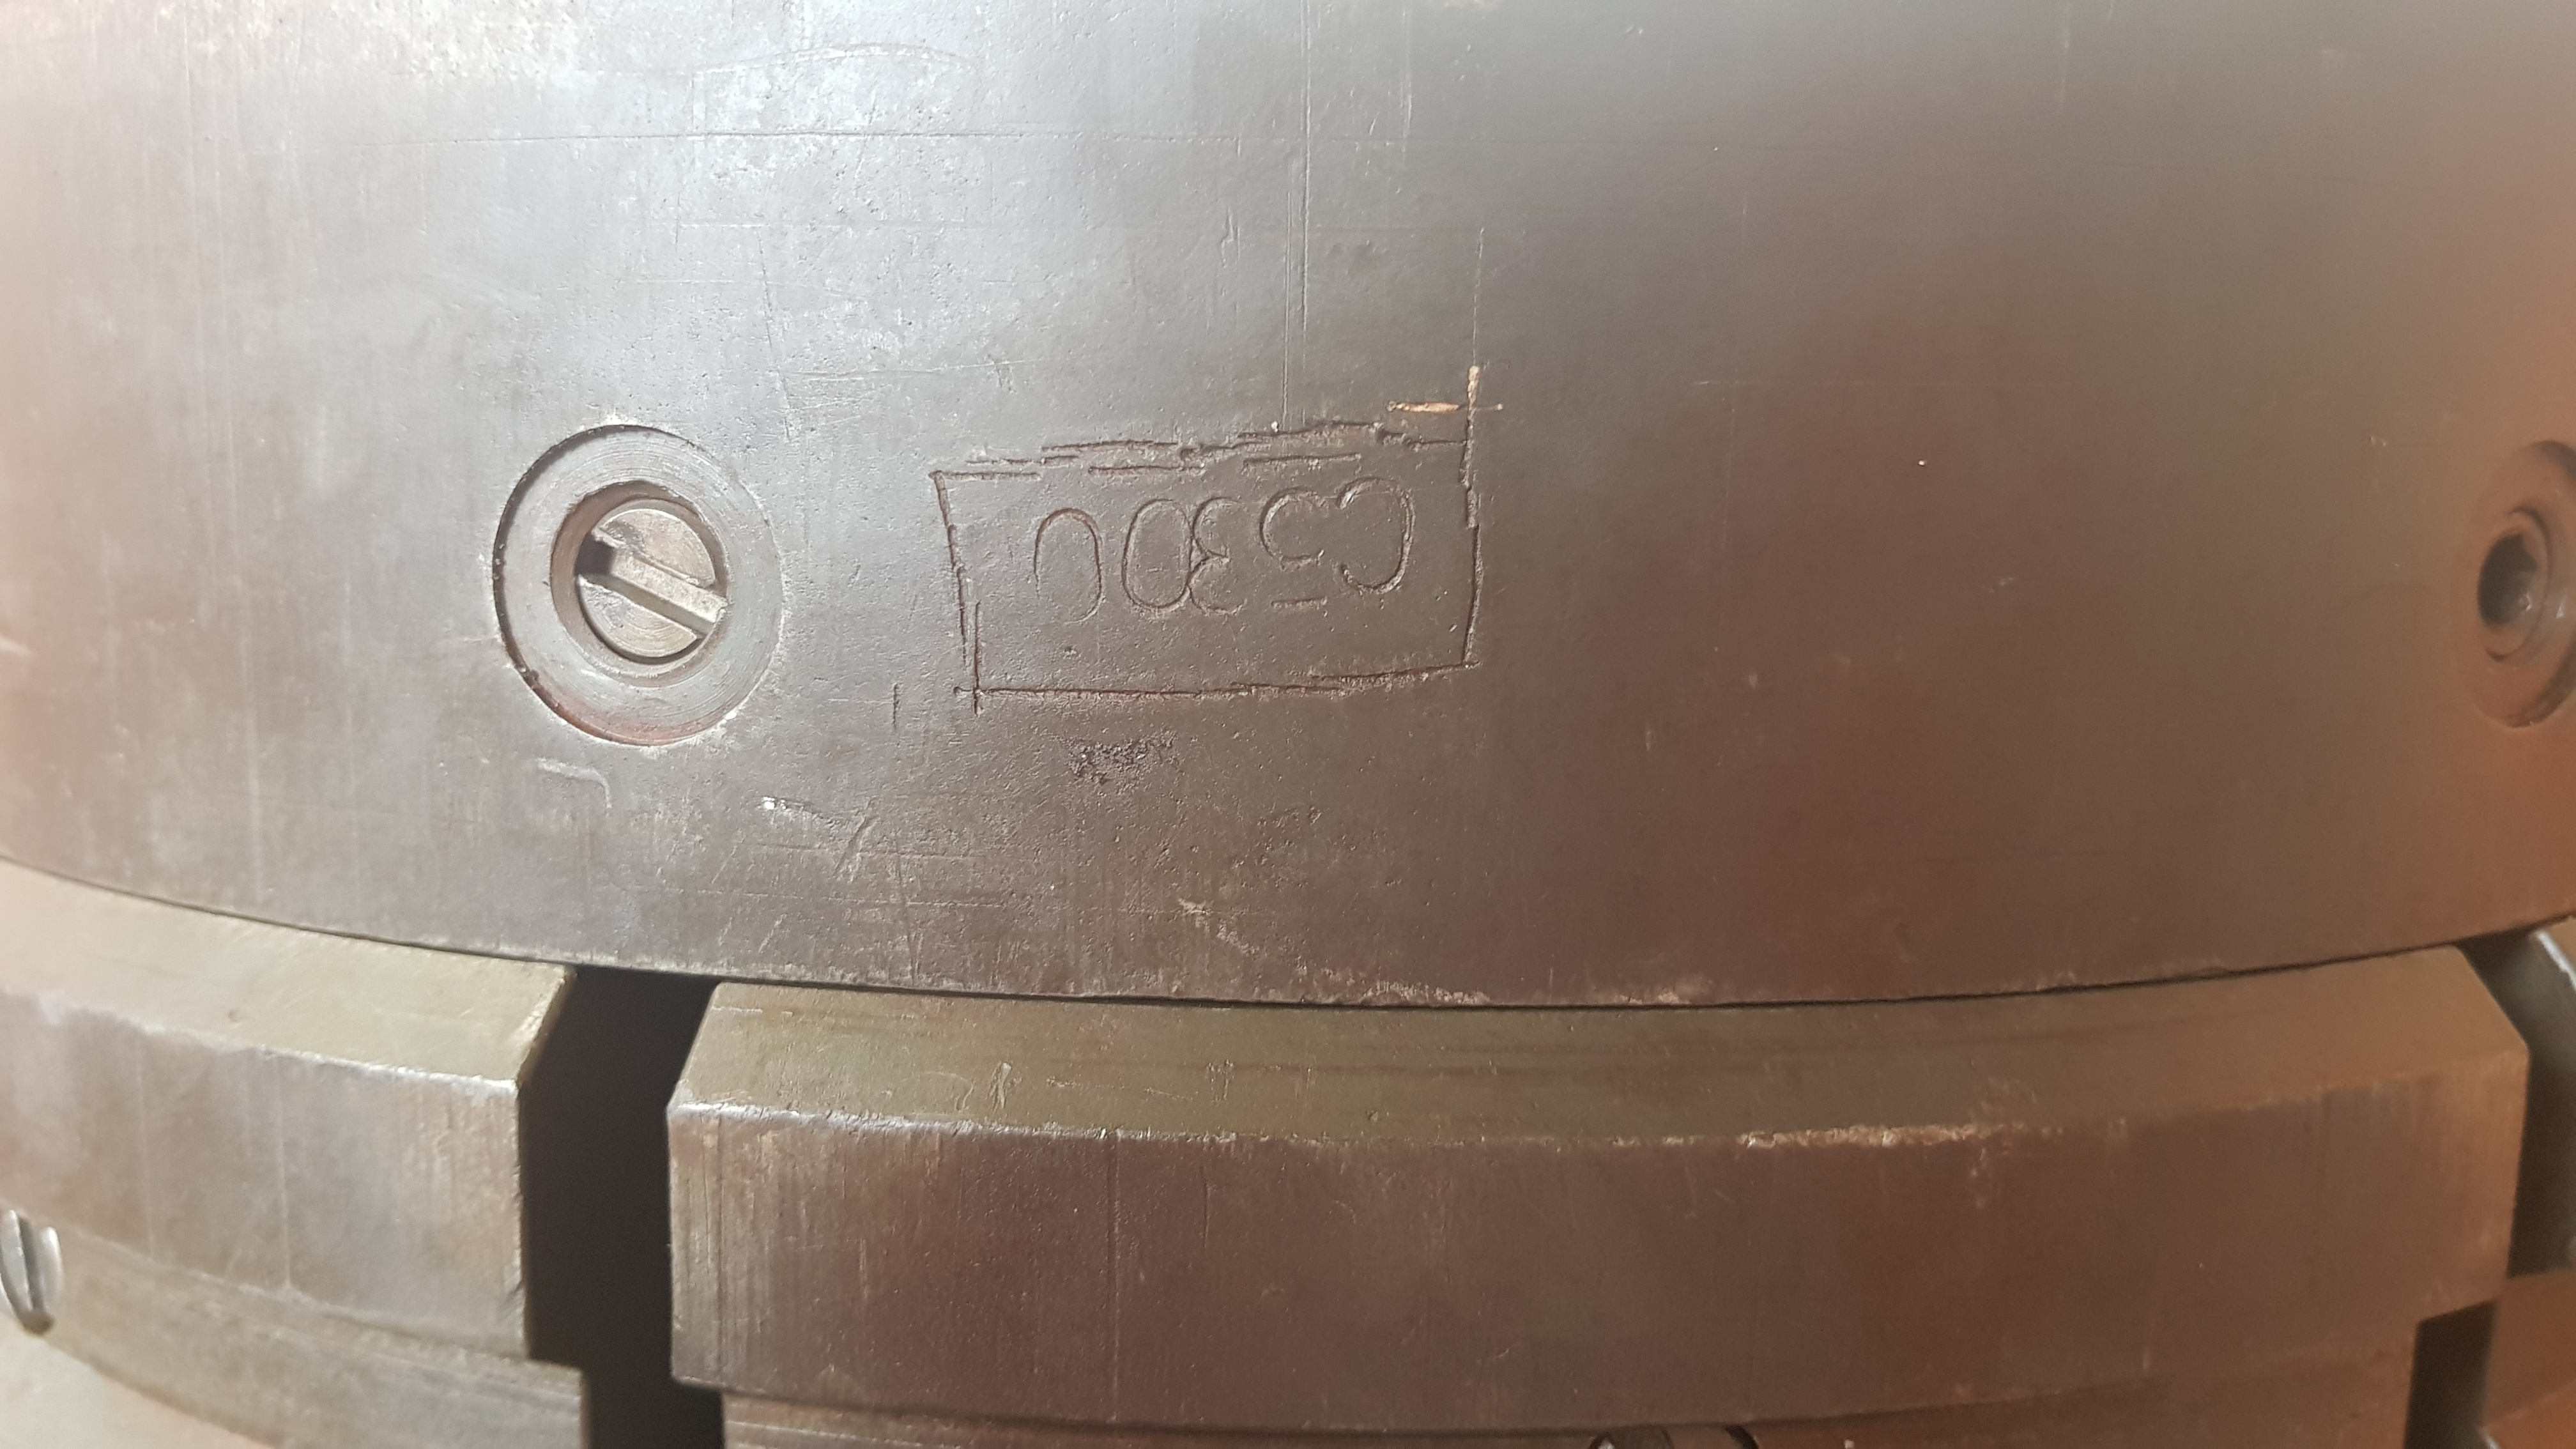character: (1334, 453, 1426, 607), (1251, 476, 1348, 614), (1116, 483, 1194, 619), (1024, 501, 1108, 626), (1191, 479, 1261, 626)
